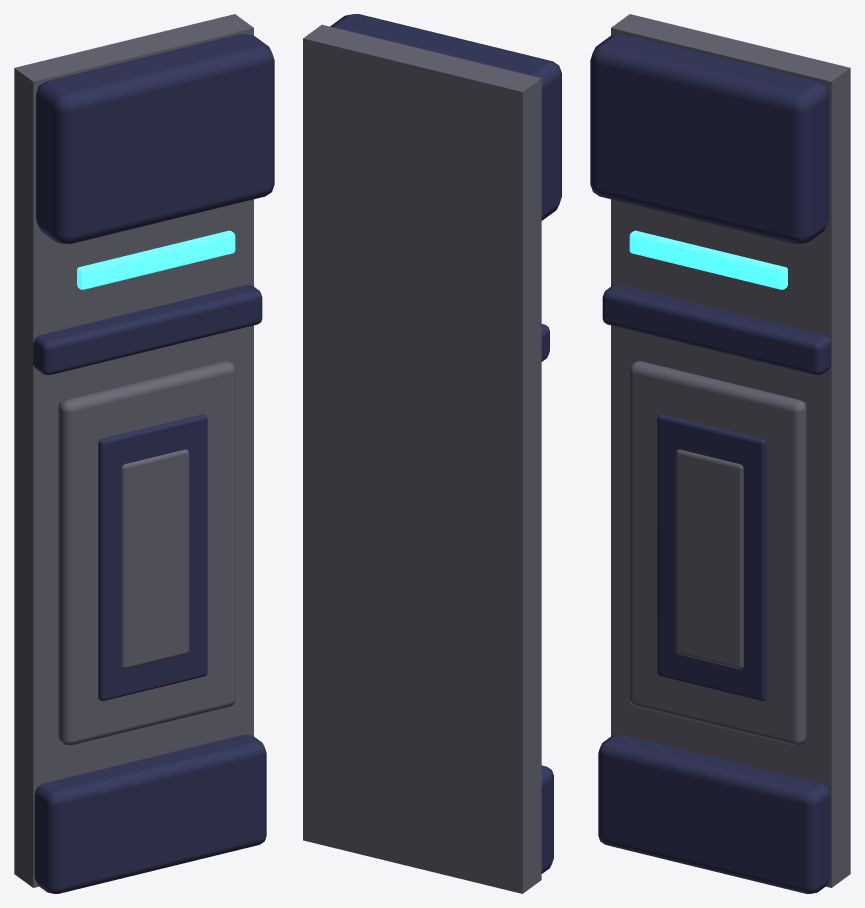
The model's file is int.wallpanel.cockpit.w0.335281.s0.i1.h1.17.glb.
The picture shows the model from 3 angles, left to right: view 1: azimuth 30°, elevation 25°; view 2: azimuth 150°, elevation 25°; view 3: azimuth 330°, elevation 25°; orthographic projection.
Visible parts, largest first — view 1: int.wallpanel.cockpit.w0.335281.s0.i1.h1.17; view 2: int.wallpanel.cockpit.w0.335281.s0.i1.h1.17; view 3: int.wallpanel.cockpit.w0.335281.s0.i1.h1.17.
Boxes of the visible parts, bbox=[...] form: int.wallpanel.cockpit.w0.335281.s0.i1.h1.17: bbox=[14, 14, 274, 893]; int.wallpanel.cockpit.w0.335281.s0.i1.h1.17: bbox=[303, 14, 561, 893]; int.wallpanel.cockpit.w0.335281.s0.i1.h1.17: bbox=[590, 14, 850, 893].
Size of the model in its own units: 0.3353 by 1.17 by 0.12.
